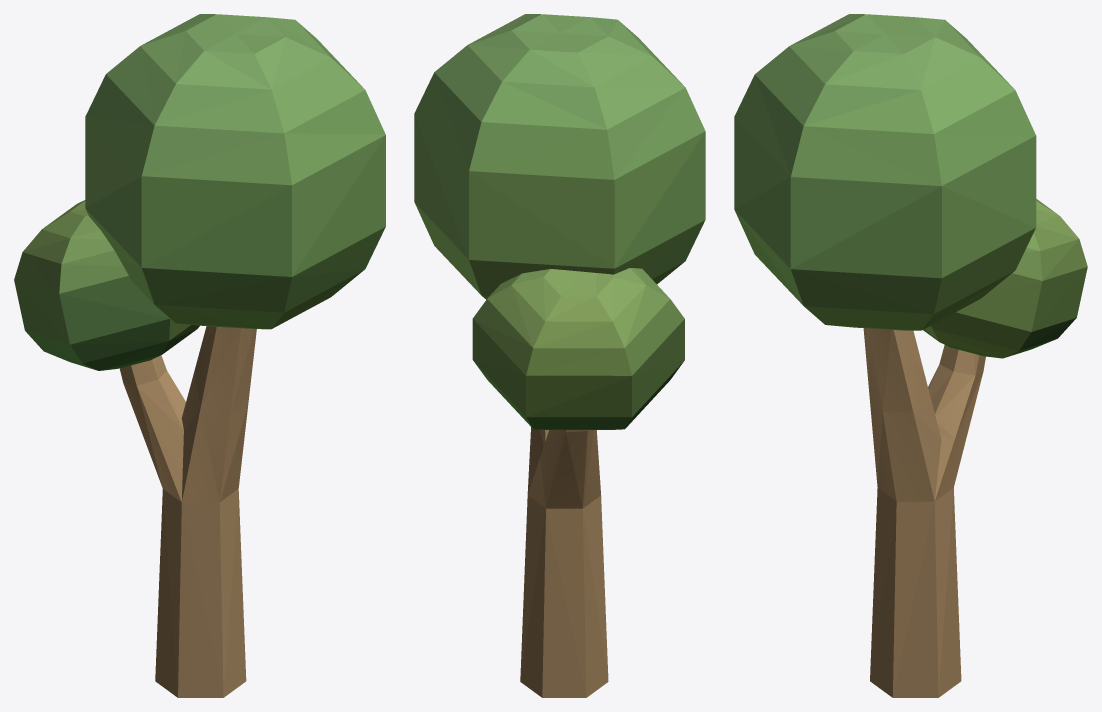
Rendered from Prop_Tree_Oak_1.glb.
3 views of the same model, side by side, from view 1: azimuth 30°, elevation 25°; view 2: azimuth 150°, elevation 25°; view 3: azimuth 270°, elevation 25° (orthographic). The views are drawn at different scales.
Visible parts, largest first — view 1: object3, object1, object2; view 2: object3, object2, object1; view 3: object3, object1, object2.
Boxes of the visible parts, bbox=[...] form: object3: bbox=[85, 14, 385, 329]; object1: bbox=[119, 326, 256, 697]; object2: bbox=[14, 200, 199, 370]; object3: bbox=[414, 14, 705, 299]; object2: bbox=[472, 268, 684, 429]; object1: bbox=[520, 427, 608, 697]; object3: bbox=[734, 14, 1036, 330]; object1: bbox=[863, 328, 985, 697]; object2: bbox=[923, 199, 1087, 358].
Size of the model in its own units: 2.09 by 4.75 by 2.32.
